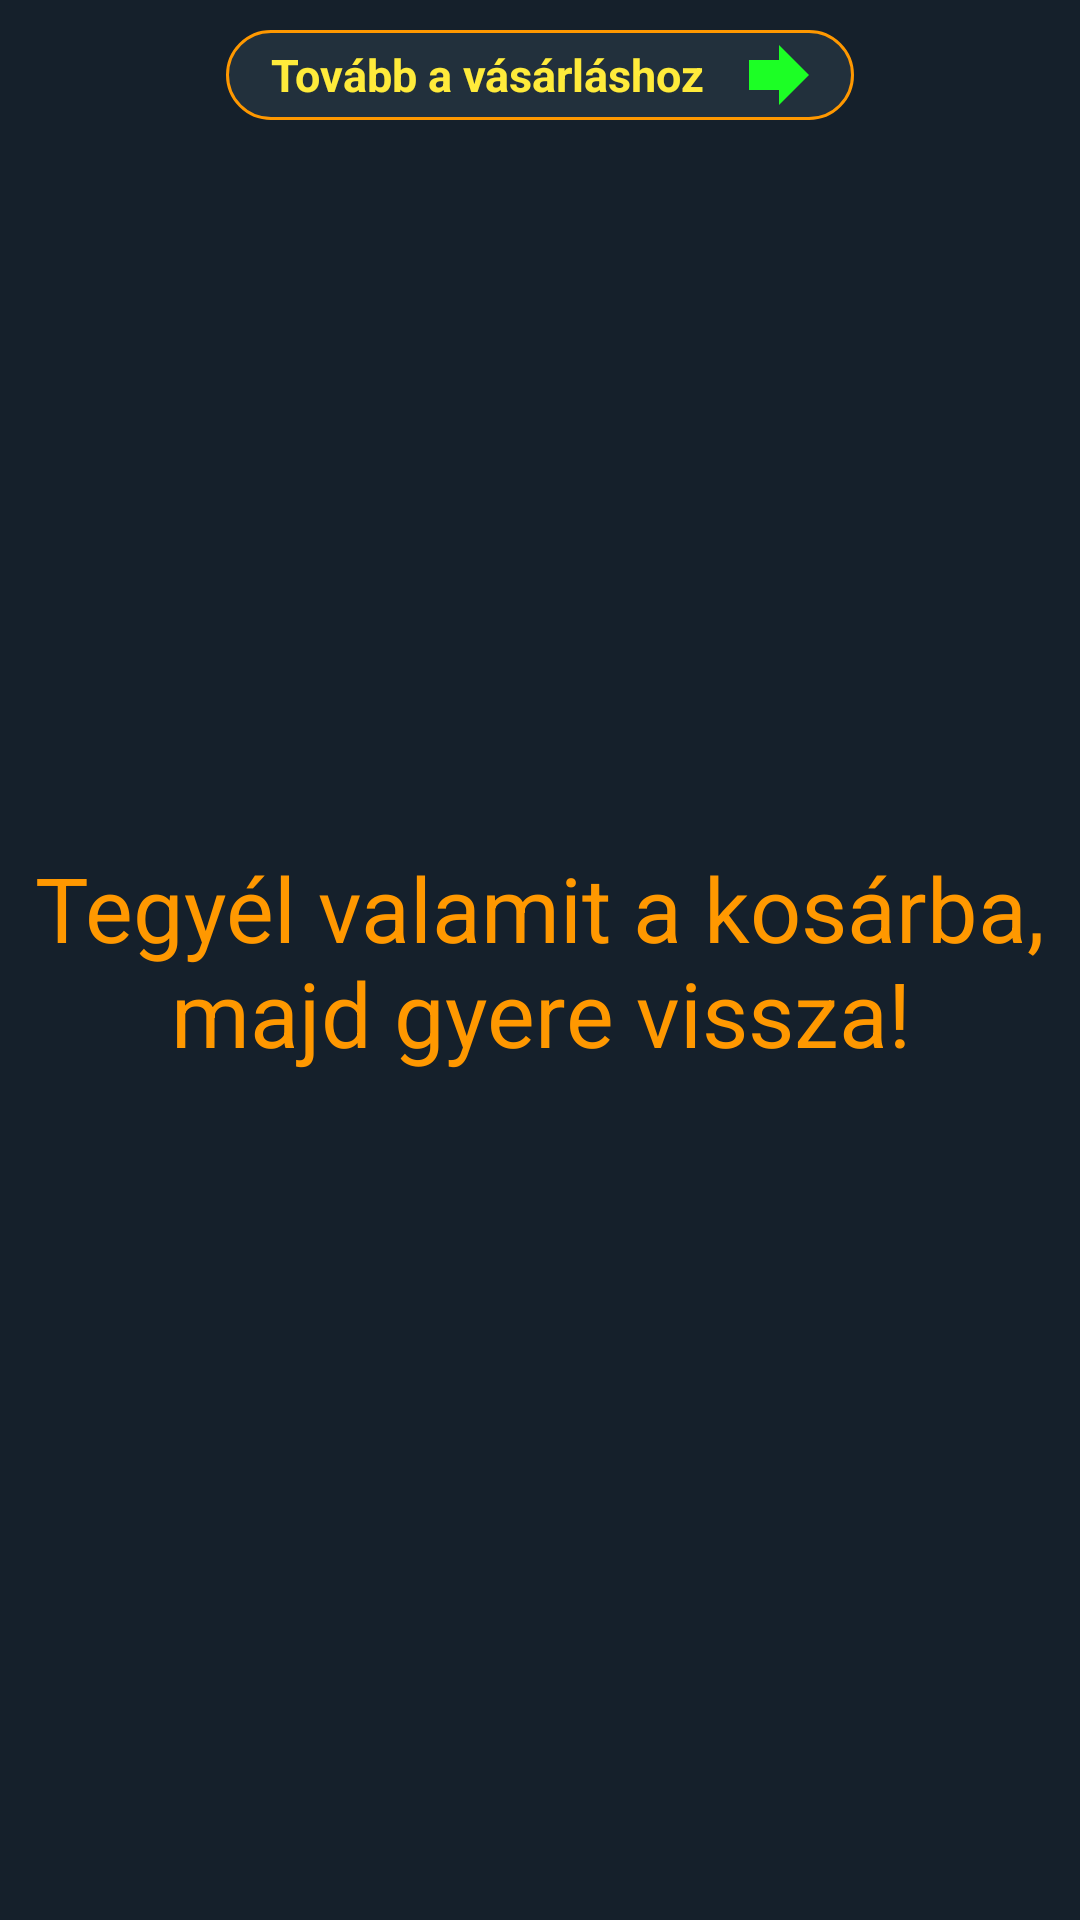

Where to tap for icons on this 1080w x 1920h app screen, as point (x, y):
forward: point (779, 75)
